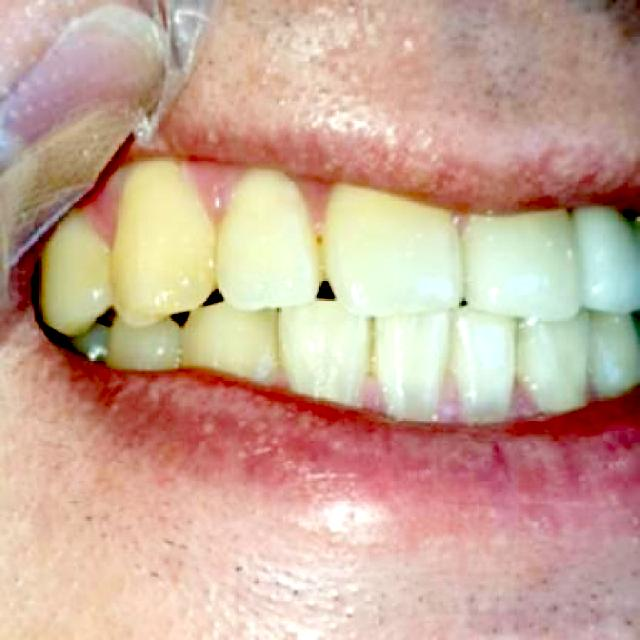Plaque: (301, 224, 340, 266)
